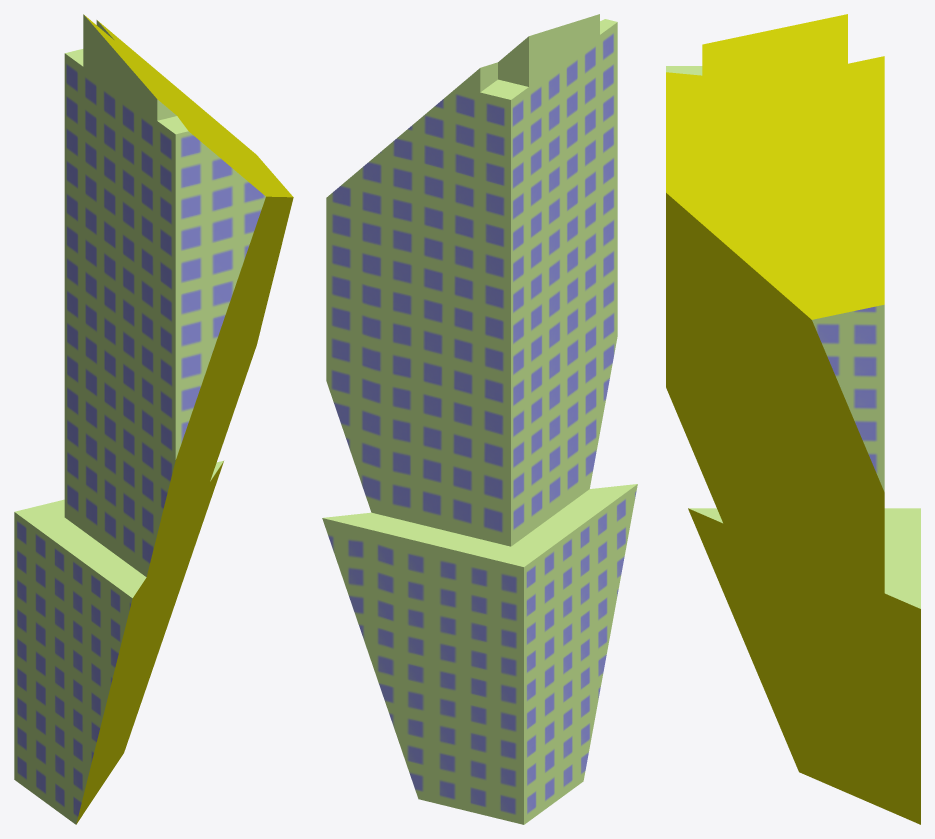
File: cbShard1.fbx
3 views of the same model, side by side, from view 1: azimuth 30°, elevation 25°; view 2: azimuth 150°, elevation 25°; view 3: azimuth 270°, elevation 25° (orthographic). The views are drawn at different scales.
Parts seen in each view (by area): view 1: shard20; view 2: shard20; view 3: shard20.
Boxes of the visible parts, left/top/right/bottom form: shard20: left=14, top=14, right=293, bottom=824; shard20: left=322, top=14, right=637, bottom=824; shard20: left=666, top=14, right=920, bottom=824.
Size of the model in its own units: 0.0834 by 0.2792 by 0.0834.
2 materials, 1 textured.
